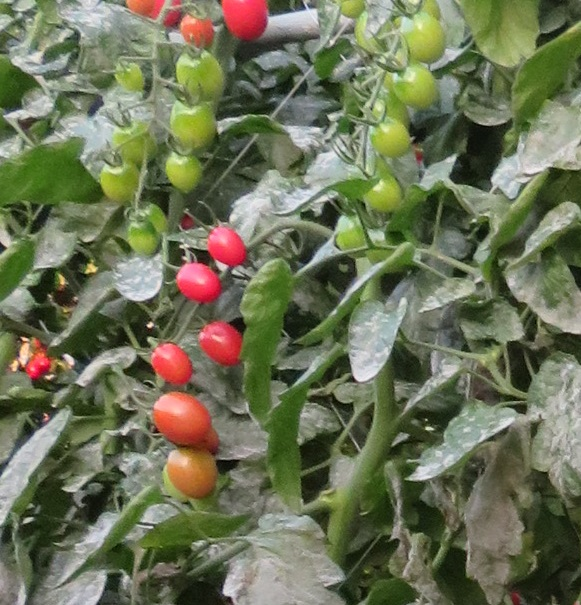green: (169, 101, 219, 150), (401, 16, 448, 67), (392, 64, 442, 111), (174, 54, 227, 92), (370, 114, 414, 159), (114, 119, 157, 164), (164, 151, 208, 194), (107, 122, 152, 164), (104, 163, 144, 207), (125, 211, 161, 259), (364, 173, 406, 207), (335, 211, 364, 251), (117, 63, 149, 95), (335, 1, 367, 19)
orange: (150, 394, 214, 447), (163, 448, 223, 499), (175, 11, 217, 42)
red: (149, 339, 198, 386), (221, 1, 273, 44), (177, 261, 223, 305), (199, 323, 245, 364), (207, 226, 249, 270), (39, 354, 54, 377), (23, 361, 39, 382)
